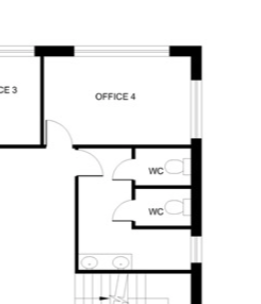door: (69, 146, 106, 185), (43, 117, 75, 152), (107, 155, 139, 183), (108, 196, 139, 224)
window: (68, 32, 176, 70), (183, 78, 208, 143), (1, 41, 40, 63), (185, 233, 208, 267)
